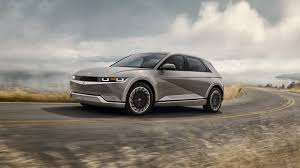Honda Ioniq: (65, 46, 234, 122)
